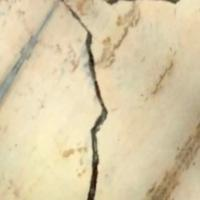crack: (54, 0, 128, 199)
